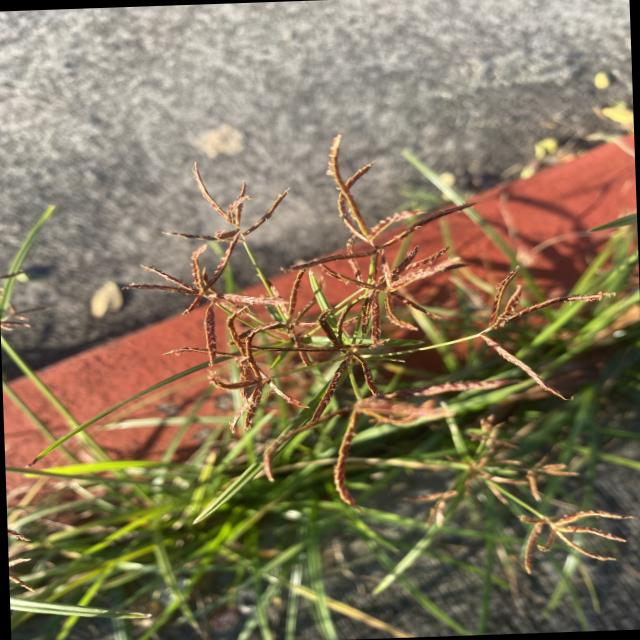cyperus: (118, 111, 620, 500), (409, 410, 636, 588)
